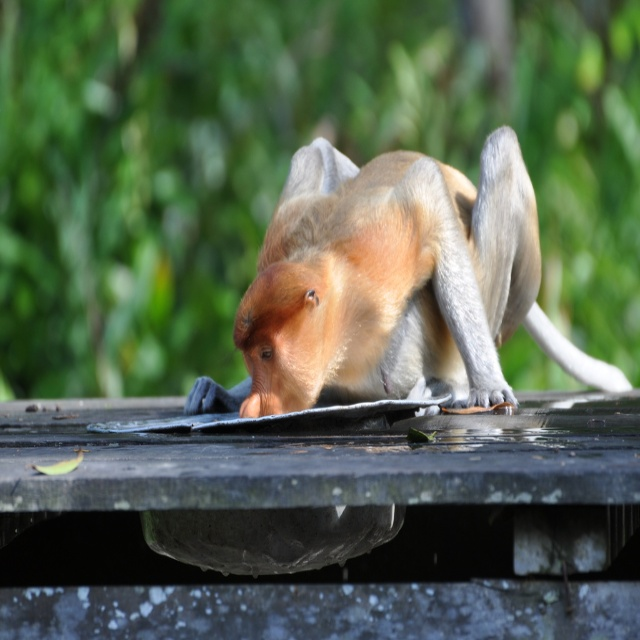Monkey: (212, 116, 614, 435)
